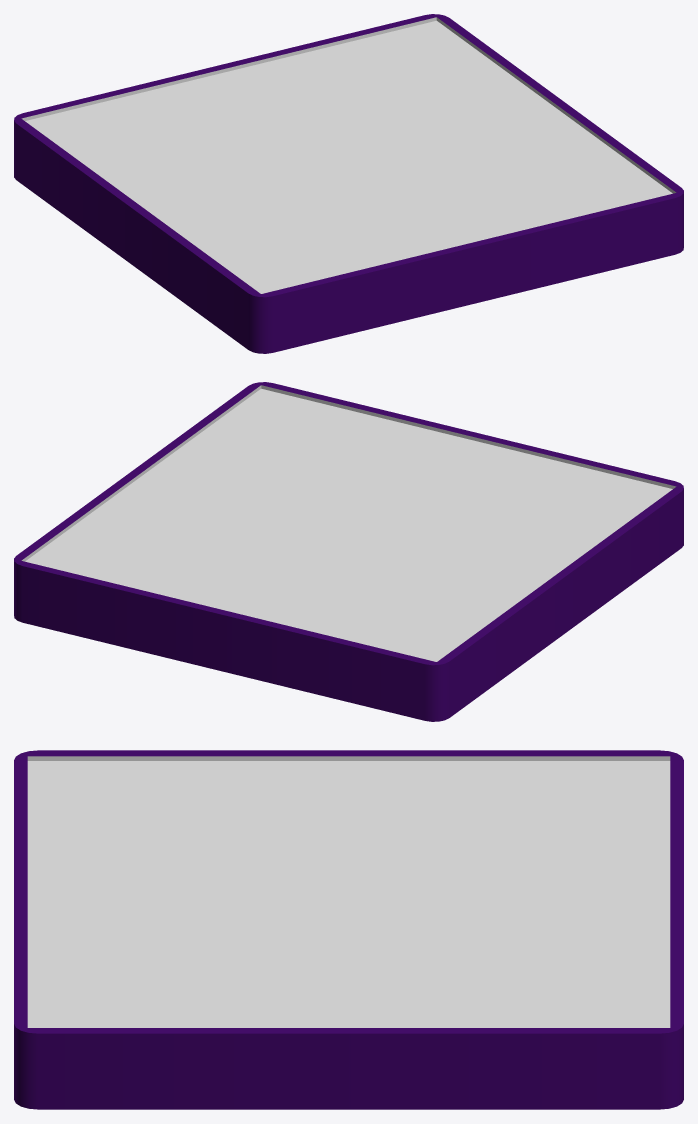
File: ToasterHolder.fbx
3 views of the same model, one above another, from view 1: azimuth 30°, elevation 25°; view 2: azimuth 150°, elevation 25°; view 3: azimuth 270°, elevation 25° (orthographic). The views are drawn at different scales.
Visible parts, largest first — view 1: Cube; view 2: Cube; view 3: Cube.
Part boxes in pixels (x1,y1,x2,y2): Cube: (14, 14, 683, 353); Cube: (14, 382, 683, 721); Cube: (14, 750, 683, 1109).
Size of the model in its own units: 800 by 100 by 800.
